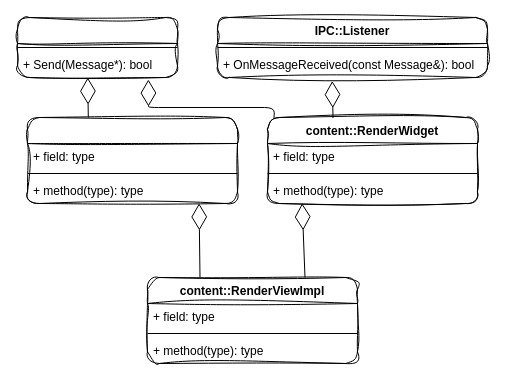
Image size: 505x381. Some labels were removed from this diagram. Each missing label, with the box of its shape:
content::RenderView: (26, 116, 238, 204)
IPC::Sender: (16, 16, 178, 78)
